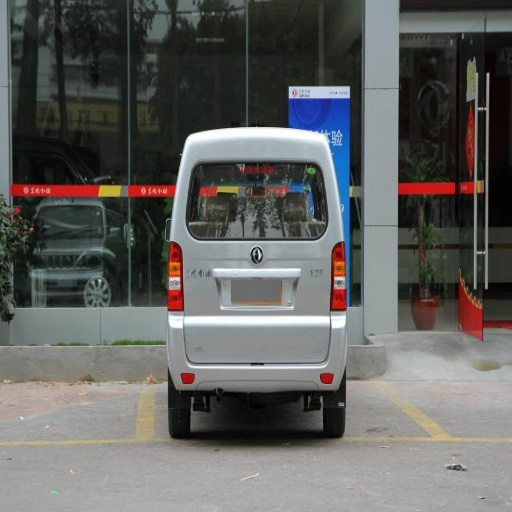back_bumper: (165, 313, 349, 391)
trunk: (183, 240, 332, 360)
